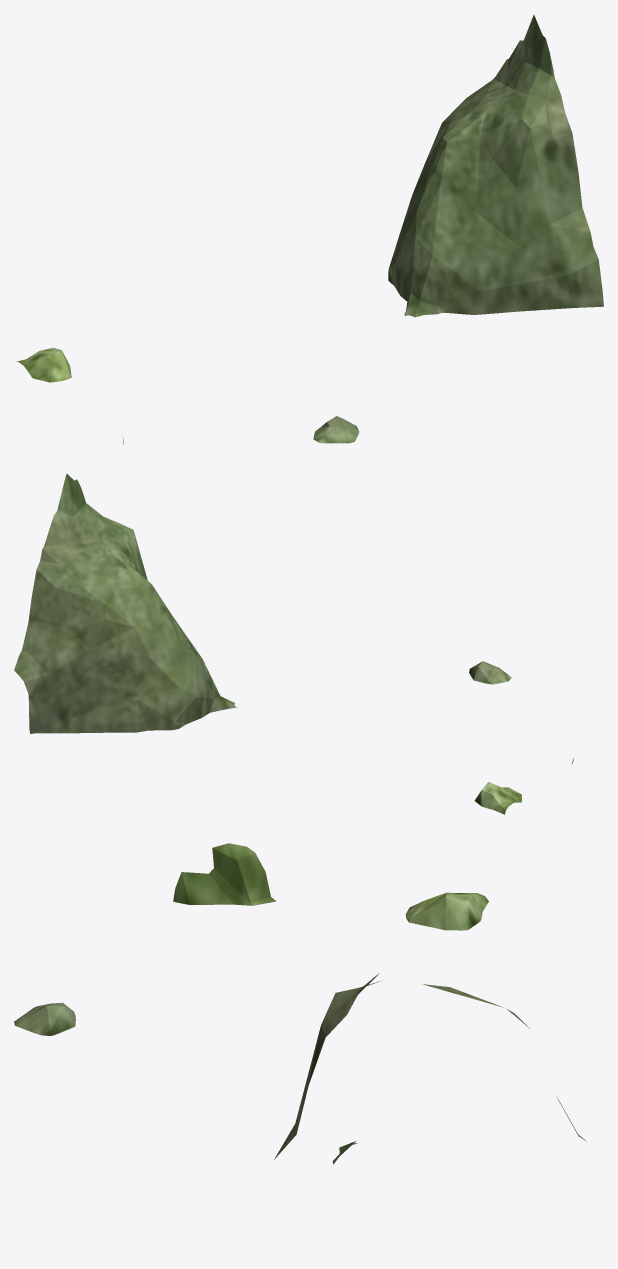
3 renders of one model, top to bottom at view 1: azimuth 30°, elevation 25°; view 2: azimuth 150°, elevation 25°; view 3: azimuth 270°, elevation 25°, orthographic. The views are drawn at different scales.
Size of the model in its own units: 2.95 by 1.35 by 2.08.
Materials: 1 (1 with a texture image).
